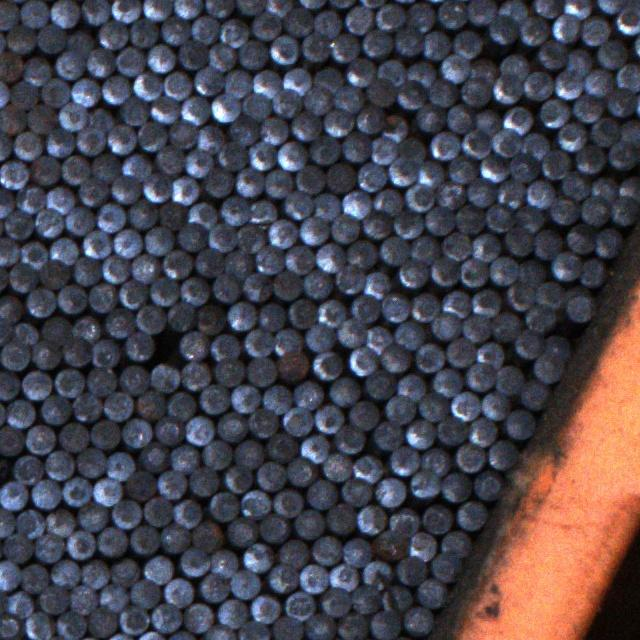tool: (191, 518, 227, 553), (429, 552, 464, 583), (264, 432, 297, 464), (328, 376, 361, 408), (223, 246, 256, 278), (120, 150, 154, 181), (467, 415, 499, 447), (595, 227, 627, 259), (502, 103, 534, 135), (118, 604, 150, 636), (90, 417, 122, 449), (135, 388, 167, 420), (195, 302, 227, 334), (176, 220, 208, 252), (305, 478, 338, 509), (172, 497, 205, 528), (213, 356, 246, 387), (486, 14, 520, 44), (229, 568, 263, 598), (472, 469, 504, 500), (420, 446, 452, 477), (334, 423, 366, 454), (276, 351, 308, 382), (272, 326, 304, 357), (404, 181, 436, 212), (607, 140, 639, 171), (226, 115, 258, 146), (143, 495, 174, 527), (240, 489, 272, 520), (184, 414, 216, 445), (198, 383, 230, 414), (20, 368, 52, 399), (148, 275, 180, 306), (127, 198, 159, 229), (220, 193, 251, 225), (136, 119, 168, 150), (245, 356, 278, 386), (397, 258, 430, 288), (326, 161, 356, 194), (275, 140, 308, 170), (40, 394, 73, 424), (229, 384, 262, 414), (374, 529, 408, 558), (538, 38, 567, 72), (178, 547, 212, 576), (369, 609, 400, 640), (301, 32, 332, 63), (218, 598, 249, 629), (199, 571, 230, 602), (78, 501, 109, 532), (125, 470, 156, 501), (157, 469, 188, 500), (26, 423, 57, 454), (103, 391, 134, 422), (193, 247, 224, 278), (106, 123, 137, 154), (149, 94, 180, 125), (23, 54, 54, 85), (284, 591, 316, 621), (422, 502, 454, 532), (456, 499, 488, 529), (506, 408, 536, 440), (348, 400, 380, 430), (384, 393, 416, 423), (292, 379, 324, 409), (348, 344, 378, 376), (532, 352, 564, 382), (394, 320, 426, 350), (441, 288, 471, 320), (532, 227, 562, 259), (342, 131, 372, 163), (353, 103, 385, 133), (397, 78, 427, 110), (439, 52, 469, 84), (421, 29, 453, 59), (219, 16, 249, 48), (405, 1, 437, 31), (56, 608, 86, 640), (86, 606, 118, 636), (132, 577, 162, 609), (164, 576, 194, 608), (130, 523, 160, 555), (227, 516, 259, 546), (76, 446, 106, 478), (58, 422, 90, 452), (153, 415, 185, 445), (218, 411, 250, 441), (143, 225, 175, 255), (202, 166, 234, 196), (196, 123, 228, 153), (41, 76, 71, 108), (96, 20, 128, 50), (313, 243, 346, 272), (150, 604, 183, 633), (222, 464, 255, 493), (233, 438, 266, 467), (216, 142, 249, 171), (302, 612, 336, 640), (416, 578, 447, 608), (299, 563, 329, 594), (342, 536, 372, 567), (326, 504, 356, 535), (272, 487, 302, 518), (454, 442, 485, 472), (372, 420, 403, 450), (404, 418, 434, 449), (418, 390, 449, 420), (465, 362, 496, 392), (350, 292, 381, 322), (333, 264, 364, 294), (372, 186, 402, 217), (541, 148, 571, 179), (575, 143, 606, 173), (461, 128, 492, 158), (323, 106, 353, 137), (366, 77, 397, 107), (428, 76, 458, 107), (238, 38, 268, 69), (581, 14, 611, 45), (251, 10, 282, 40), (598, 39, 628, 70), (244, 541, 274, 572), (3, 532, 34, 562), (66, 529, 97, 559), (140, 441, 170, 472), (170, 444, 201, 474), (85, 366, 116, 396), (149, 362, 180, 392), (31, 339, 61, 370), (179, 330, 209, 361), (40, 316, 71, 346), (104, 307, 135, 337), (58, 284, 89, 314), (8, 262, 39, 292), (40, 258, 70, 289), (101, 253, 131, 284), (132, 252, 162, 283), (187, 200, 218, 230), (141, 171, 171, 202), (167, 118, 197, 149), (29, 103, 59, 134), (9, 79, 39, 110), (101, 74, 132, 104), (195, 65, 225, 96), (146, 43, 176, 74), (207, 40, 237, 71), (278, 538, 310, 567), (292, 509, 324, 538), (282, 406, 314, 435), (396, 372, 428, 401), (462, 312, 491, 344), (409, 234, 441, 263), (526, 179, 558, 208), (269, 35, 301, 64), (250, 594, 282, 623), (21, 561, 50, 593), (51, 556, 80, 588), (92, 477, 124, 506), (44, 450, 76, 479), (105, 450, 137, 479), (52, 368, 84, 397), (182, 361, 214, 390), (226, 301, 258, 330), (89, 281, 118, 313), (172, 172, 201, 204), (184, 146, 213, 178), (12, 130, 44, 159), (564, 294, 597, 322), (312, 66, 346, 93), (402, 605, 432, 635), (350, 584, 380, 614), (356, 504, 386, 534), (452, 391, 482, 421), (364, 369, 394, 399), (434, 367, 464, 397), (415, 342, 445, 372), (514, 327, 544, 357), (506, 280, 536, 310), (283, 244, 313, 274), (370, 135, 400, 165), (554, 68, 584, 98), (144, 554, 174, 584), (98, 526, 128, 556), (161, 523, 191, 553), (112, 498, 142, 528), (122, 418, 152, 448), (72, 393, 102, 423), (72, 314, 102, 344), (26, 286, 56, 316), (212, 273, 242, 303), (163, 248, 193, 278), (82, 229, 112, 259), (3, 210, 33, 240), (96, 202, 126, 232), (0, 158, 30, 188), (154, 144, 184, 174), (180, 95, 210, 125), (164, 68, 194, 98), (86, 46, 116, 76), (66, 26, 96, 56), (259, 513, 290, 542), (341, 477, 372, 506), (389, 446, 420, 475), (300, 433, 331, 462), (491, 311, 520, 342), (272, 269, 303, 298), (329, 213, 358, 244), (394, 208, 423, 239), (579, 197, 610, 226), (522, 131, 553, 160), (290, 111, 321, 140), (283, 7, 314, 36), (208, 491, 239, 520), (168, 388, 197, 419), (63, 336, 92, 367), (124, 331, 155, 360), (243, 327, 274, 356), (180, 275, 209, 306), (78, 177, 109, 206), (110, 175, 141, 204), (60, 154, 91, 183), (118, 96, 149, 125), (210, 92, 241, 121), (71, 76, 102, 105), (117, 45, 146, 76), (37, 24, 66, 55), (336, 612, 368, 640), (395, 556, 427, 584), (350, 454, 382, 482), (487, 440, 519, 468), (524, 304, 556, 332), (454, 204, 486, 232), (282, 189, 314, 217), (448, 155, 480, 183), (308, 135, 340, 163), (498, 53, 530, 81), (360, 29, 392, 57), (40, 582, 68, 614), (48, 237, 80, 265), (132, 72, 164, 100), (160, 16, 192, 44), (380, 585, 413, 612), (471, 288, 504, 315), (268, 563, 298, 592), (362, 559, 392, 588), (312, 534, 341, 564), (407, 532, 437, 561), (389, 506, 419, 535), (375, 477, 405, 506), (409, 468, 439, 497), (442, 472, 471, 502), (286, 457, 316, 486), (322, 451, 351, 481), (249, 408, 279, 437), (494, 364, 523, 394), (287, 298, 316, 328), (411, 292, 440, 322), (346, 240, 376, 269), (379, 235, 409, 264), (441, 231, 471, 260), (267, 218, 296, 248), (424, 204, 454, 233), (496, 179, 525, 209), (480, 152, 509, 182), (558, 121, 587, 151), (258, 115, 288, 144), (414, 103, 444, 132), (239, 92, 269, 121), (461, 76, 491, 105), (493, 73, 522, 103), (565, 46, 594, 76), (551, 13, 581, 42), (184, 603, 213, 633), (81, 557, 110, 587), (46, 506, 75, 536), (31, 479, 61, 508), (202, 440, 232, 469), (118, 365, 148, 394), (0, 341, 30, 370), (91, 337, 120, 367), (211, 332, 240, 362), (113, 228, 142, 258), (207, 222, 236, 252), (158, 200, 187, 230), (47, 127, 76, 157), (6, 23, 36, 52), (129, 17, 158, 47), (319, 588, 350, 616), (380, 343, 411, 371), (337, 317, 365, 348), (302, 270, 333, 298), (361, 210, 392, 238), (356, 162, 387, 190), (270, 89, 301, 117), (375, 2, 406, 30), (13, 456, 44, 484), (3, 400, 34, 428), (0, 103, 28, 134), (85, 103, 116, 131), (447, 101, 474, 133), (49, 0, 81, 27), (330, 562, 359, 591), (256, 460, 285, 489), (317, 298, 346, 327), (242, 272, 271, 301), (489, 256, 518, 285), (551, 251, 580, 280), (580, 258, 609, 287), (471, 232, 500, 261), (312, 191, 341, 220), (387, 156, 416, 185), (590, 117, 619, 146), (540, 99, 569, 128), (607, 86, 636, 115), (110, 556, 139, 585), (36, 533, 65, 562), (62, 477, 91, 506), (190, 466, 219, 495), (72, 256, 101, 285), (35, 208, 64, 237), (31, 155, 60, 184), (437, 416, 465, 446), (314, 404, 344, 432), (260, 384, 290, 412), (446, 336, 474, 366), (305, 323, 335, 351), (518, 259, 548, 287), (254, 245, 284, 273), (550, 196, 578, 226), (294, 164, 324, 192), (510, 152, 540, 180), (429, 130, 459, 158), (492, 128, 520, 158), (572, 94, 602, 122), (303, 86, 333, 114), (333, 84, 363, 112), (223, 67, 251, 97), (376, 58, 406, 86), (17, 508, 45, 538), (0, 480, 28, 510), (136, 305, 166, 333), (120, 278, 148, 308), (16, 184, 46, 212), (46, 186, 76, 214), (76, 126, 106, 154), (521, 381, 552, 408), (310, 352, 341, 379), (297, 217, 328, 244), (281, 67, 312, 94), (407, 59, 438, 86), (452, 29, 483, 56), (99, 583, 130, 610), (64, 207, 95, 234), (55, 51, 86, 78), (544, 334, 572, 363), (431, 311, 460, 339), (362, 269, 391, 297), (504, 227, 532, 256), (236, 224, 265, 252), (341, 188, 370, 216), (263, 168, 292, 196), (248, 140, 276, 169), (253, 69, 281, 98), (520, 16, 549, 44), (314, 10, 343, 38), (26, 611, 54, 640), (167, 303, 196, 331), (92, 153, 120, 182), (59, 101, 87, 130), (178, 39, 206, 68), (191, 15, 219, 44), (21, 0, 50, 28), (442, 530, 472, 557), (482, 389, 509, 419), (460, 257, 487, 287), (559, 171, 589, 198), (235, 167, 262, 197), (522, 71, 552, 98), (331, 32, 358, 62), (395, 25, 422, 55), (70, 585, 97, 615), (382, 292, 408, 323), (383, 111, 408, 143), (270, 616, 303, 640), (475, 340, 503, 368), (258, 302, 286, 330), (431, 256, 459, 284), (567, 223, 595, 251), (487, 202, 515, 230), (612, 196, 640, 224), (466, 178, 494, 206), (347, 58, 375, 86), (346, 6, 374, 34), (210, 548, 238, 576), (20, 239, 48, 267), (516, 205, 545, 232), (251, 197, 278, 226), (439, 0, 468, 27), (0, 424, 24, 456), (418, 158, 445, 186), (7, 589, 34, 617), (436, 182, 465, 208), (110, 0, 142, 23), (12, 320, 39, 347), (0, 292, 24, 322), (538, 280, 564, 307), (590, 176, 617, 202), (399, 136, 426, 162), (585, 68, 612, 94), (469, 56, 496, 82), (615, 63, 640, 91), (0, 612, 25, 640), (81, 0, 110, 24), (498, 0, 532, 20), (366, 325, 392, 351), (474, 108, 500, 134), (468, 0, 496, 24), (0, 558, 21, 590), (616, 7, 640, 34), (238, 620, 270, 640), (0, 51, 22, 80), (0, 370, 21, 400), (0, 236, 21, 266), (204, 0, 238, 18), (0, 0, 20, 30), (142, 0, 173, 19), (619, 175, 640, 203), (565, 282, 592, 303), (203, 623, 236, 640), (620, 118, 640, 146), (563, 0, 594, 18), (533, 0, 563, 18), (174, 0, 203, 18), (0, 508, 17, 538), (264, 0, 292, 16), (0, 188, 14, 218), (237, 0, 264, 14), (598, 0, 624, 13), (0, 316, 11, 346), (0, 130, 11, 160)
tool_b: (0, 454, 13, 486)
void: (152, 328, 184, 364)
